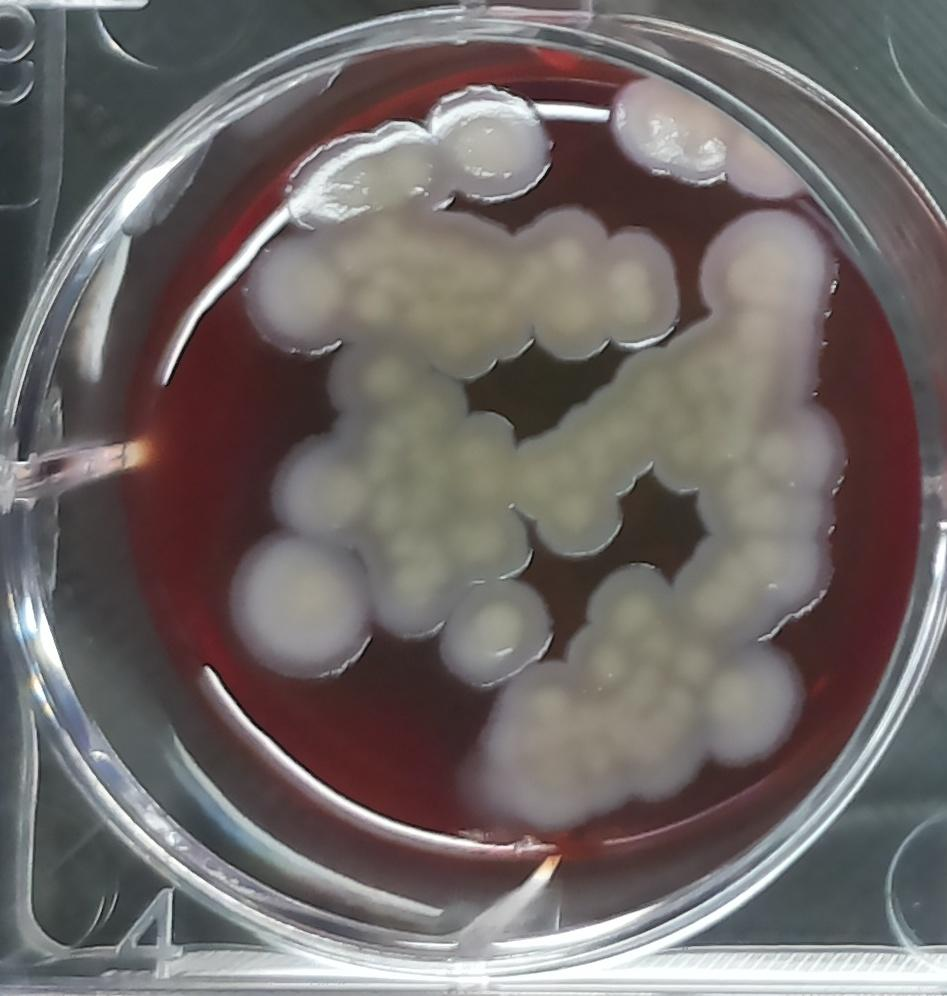bcereus: (267, 341, 531, 640), (453, 554, 702, 836), (522, 201, 685, 371), (602, 64, 803, 200), (223, 525, 373, 687), (285, 111, 447, 233), (694, 199, 843, 327), (696, 633, 818, 771), (243, 229, 358, 364), (431, 76, 555, 201), (436, 568, 562, 691)
